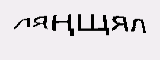Л: (129, 15, 148, 34), (13, 14, 31, 31)
Щ: (77, 8, 111, 36)
Я: (32, 12, 50, 33), (110, 12, 128, 33)
Ң: (50, 11, 79, 37)
